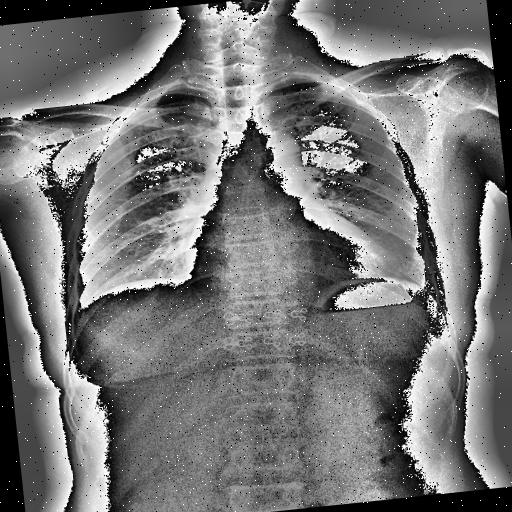0- Aortic enlargement: (243, 126, 309, 188), (248, 126, 304, 188)
3- Cardiomegaly: (180, 208, 394, 300), (180, 214, 396, 296), (182, 217, 388, 302)
